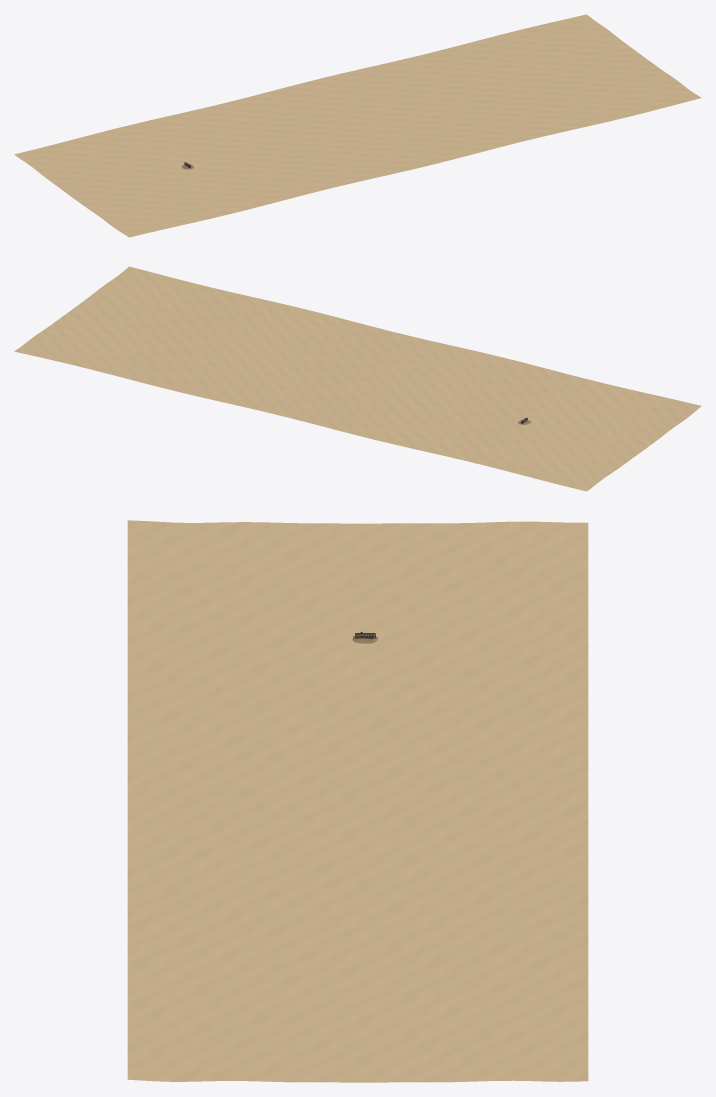
The model's file is town.glb.
The picture shows the model from 3 angles, top to bottom: view 1: azimuth 30°, elevation 25°; view 2: azimuth 150°, elevation 25°; view 3: azimuth 270°, elevation 25°; orthographic projection. The views are drawn at different scales.
Parts seen in each view (by area): view 1: opening_desert; view 2: opening_desert; view 3: opening_desert.
Part boxes in pixels (<box>): opening_desert: <box>14,14,701,237</box>; opening_desert: <box>14,266,701,491</box>; opening_desert: <box>127,520,588,1082</box>.
Size of the model in its own units: 1068 by 6.98 by 372.
6 materials, 5 textured.
